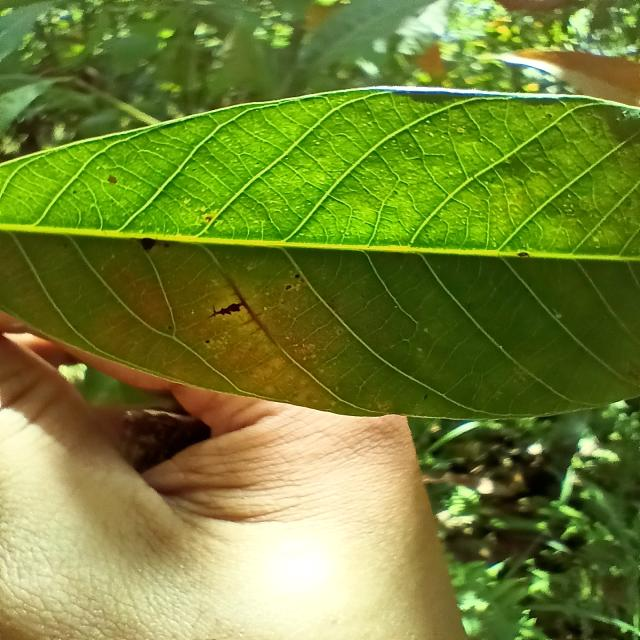Colletotrichum: (204, 339, 211, 344), (295, 274, 300, 278)
Leaf-Blight: (208, 302, 246, 319)
